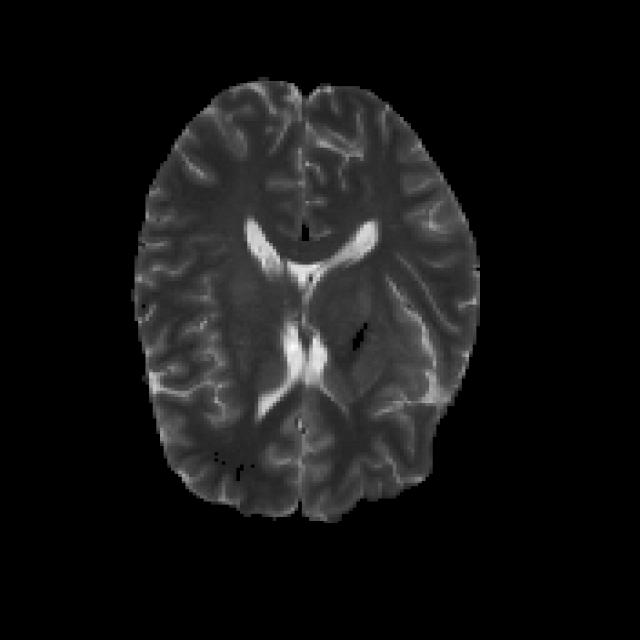parkinson: (127, 74, 480, 523)
